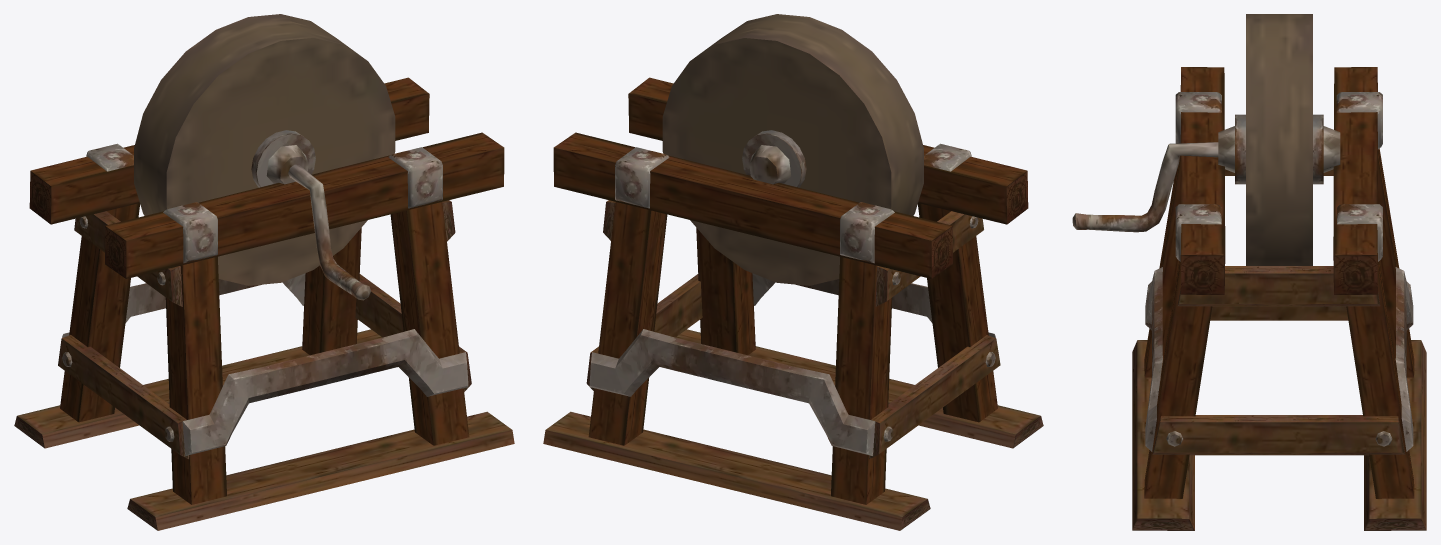
The model's file is Whetstone_Worn.glb.
The picture shows the model from 3 angles, left to right: view 1: azimuth 30°, elevation 25°; view 2: azimuth 150°, elevation 25°; view 3: azimuth 270°, elevation 25°; orthographic projection. The views are drawn at different scales.
Parts seen in each view (by area): view 1: Whetstone; view 2: Whetstone; view 3: Whetstone.
Boxes of the visible parts, box(x1,y1,x2,y2) form: Whetstone: box(14, 14, 514, 530); Whetstone: box(543, 14, 1043, 530); Whetstone: box(1072, 14, 1426, 530).
Bounding box in the file's own units: 1.14 × 1.17 × 0.9018.
3 materials, 3 textured.
